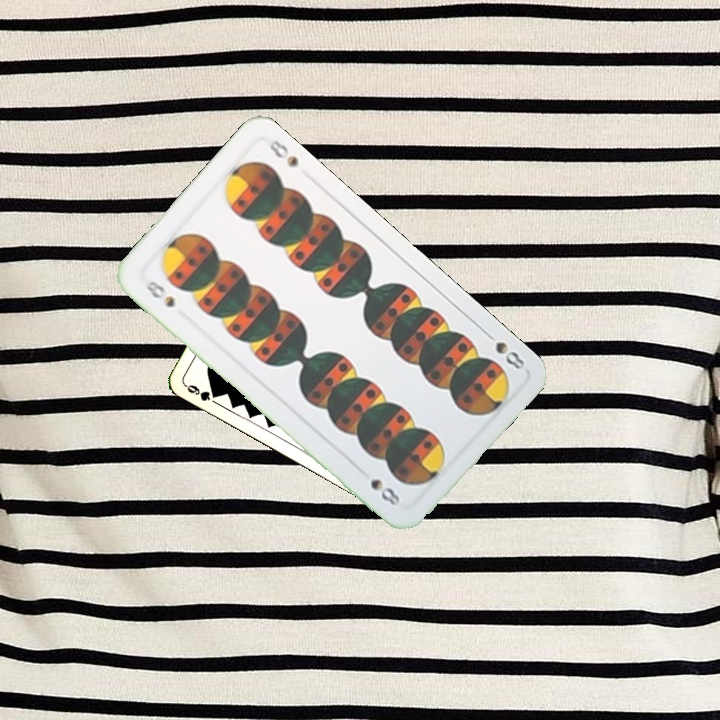G9: (181, 380, 222, 404)
S8: (479, 326, 528, 372), (141, 276, 178, 311)
